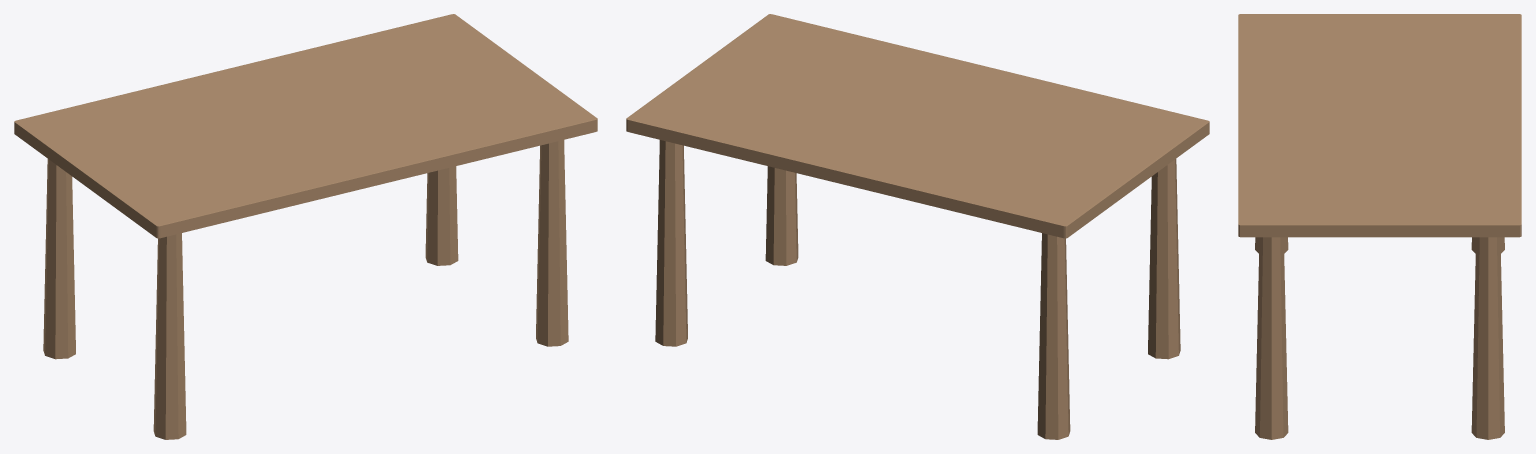
File: DiningTable.fbx
3 views of the same model, side by side, from view 1: azimuth 30°, elevation 25°; view 2: azimuth 150°, elevation 25°; view 3: azimuth 270°, elevation 25° (orthographic).
Parts seen in each view (by area): view 1: Top, Leg1, Leg2, Leg3, Leg4; view 2: Top, Leg3, Leg4, Leg1, Leg2; view 3: Top, Leg2, Leg4.
Part boxes in pixels (x1,y1,x2,y2): Top: (14,14,597,238); Leg1: (153,233,186,439); Leg2: (536,140,568,346); Leg3: (43,159,75,359); Leg4: (425,166,458,265); Top: (626,14,1209,238); Leg3: (1037,233,1070,439); Leg4: (655,140,687,346); Leg1: (1148,159,1180,359); Leg2: (765,166,798,265); Top: (1238,14,1521,237); Leg2: (1255,237,1288,439); Leg4: (1471,237,1504,439).
Size of what is drawn, in the model's own units: 150 by 73.43 by 85.
